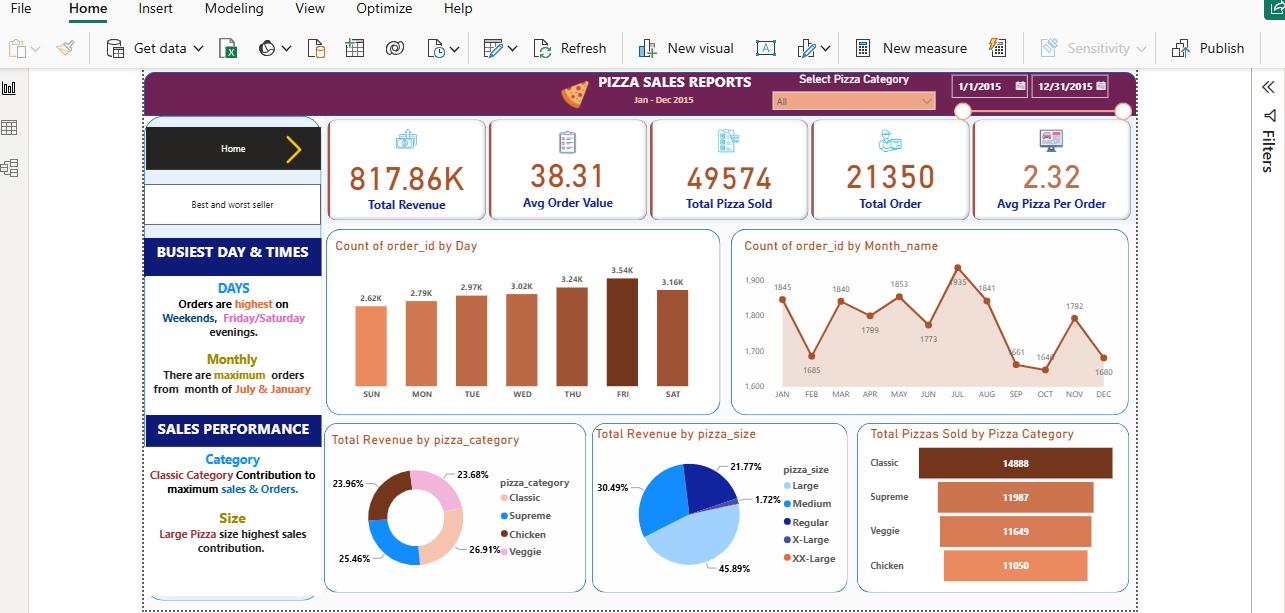

What the dashboard file says about the page in this screenshot:
{"tool":"powerbi","page":{"name":"Home","canvas":[1465,800],"ordinal":0},"visuals":[{"type":"shape","box":[0,71.5,261.8,715.4],"z":0},{"type":"shape","box":[0,6.5,1465,65],"z":1000},{"type":"cardVisual","fields":{"Data":["pizza_sales1.Total Revenue","pizza_sales1.Avg Order Value","pizza_sales1.Total Pizza Sold","pizza_sales1.Total Order","pizza_sales1.Avg Pizza Per Order"]},"box":[265,71.5,1200,159.3],"z":2000},{"type":"textbox","box":[695.9,32.5,144.7,39],"z":3000},{"type":"group","id":"g1","title":"Group 1","box":[582.5,276.4,252,2.6],"z":4000},{"type":"textbox","box":[626,0,315.4,40.7],"z":5000},{"type":"textbox","box":[582.5,276.4,252,2.6],"z":5500,"group":"g1"},{"type":"shape","box":[268.3,237.4,582.1,274.8],"z":6000},{"type":"image","box":[580.5,13,112.2,52],"z":7000},{"type":"shape","box":[866.7,237.4,587,274.8],"z":8000},{"type":"clusteredColumnChart","fields":{"Y":["Count(pizza_sales1.order_id)"],"Category":["pizza_sales1.Day"]},"box":[278,250.4,562.6,248.8],"z":9000},{"type":"areaChart","fields":{"Y":["Count(pizza_sales1.order_id)"],"Category":["pizza_sales1.Month_name"]},"box":[881.3,250.4,557.7,248.8],"z":10000},{"type":"shape","box":[265,523.6,387,250.4],"z":11000},{"type":"shape","box":[661.8,523.6,377.2,250.4],"z":12000},{"type":"donutChart","fields":{"Category":["pizza_sales1.pizza_category"],"Y":["pizza_sales1.Total Revenue"]},"box":[271.5,536.6,374,230.9],"z":13000},{"type":"pieChart","fields":{"Category":["pizza_sales1.pizza_size"],"Y":["pizza_sales1.Total Revenue"]},"box":[661.8,528.5,377.2,239],"z":14000},{"type":"shape","box":[1052,523.6,401.6,250.4],"z":15000},{"type":"funnel","title":"Total Pizzas Sold by Pizza Category ","fields":{"Category":["pizza_sales1.pizza_category"],"Y":["Sum(pizza_sales1.quantity)"]},"box":[1066.7,528.5,372.4,239],"z":16000},{"type":"textbox","box":[0,250.4,261.8,56.9],"z":17000},{"type":"textbox","box":[3.3,307.3,258.5,204.9],"z":18000},{"type":"textbox","box":[0,559.3,261.8,219.5],"z":19000},{"type":"textbox","box":[3.3,512.2,258.5,47.2],"z":20000},{"type":"slicer","title":"Select Pizza Category","fields":{"Values":["pizza_sales1.pizza_category"]},"box":[918.7,6.5,260.2,58.5],"z":21000},{"type":"slicer","title":"Select Pizza Category","fields":{"Values":["pizza_sales1.order_date"]},"box":[1178.9,0,286.2,87.8],"z":22000},{"type":"pageNavigator","box":[3.3,87.8,258.5,63.4],"z":22001},{"type":"pageNavigator","box":[0,170.7,261.8,60.2],"z":22002},{"type":"image","box":[165.9,94.3,112.2,52],"z":22003}]}

Visuals, with their boxes on the page's 1465x800 design canvas (x1, y1, x2, y2). These are canvas units, not pixel positions in the 1285x613 screenshot, which may show the page scaled, cropped or inside an application window:
shape: crop(0, 72, 262, 787)
shape: crop(0, 6, 1465, 72)
cardVisual - pizza_sales1.Total Revenue x pizza_sales1.Avg Order Value: crop(265, 72, 1465, 231)
textbox: crop(696, 32, 841, 72)
"Group 1" group: crop(582, 276, 834, 279)
textbox: crop(626, 0, 941, 41)
textbox: crop(582, 276, 834, 279)
shape: crop(268, 237, 850, 512)
image: crop(580, 13, 693, 65)
shape: crop(867, 237, 1454, 512)
clusteredColumnChart - Count(pizza_sales1.order_id) x pizza_sales1.Day: crop(278, 250, 841, 499)
areaChart - Count(pizza_sales1.order_id) x pizza_sales1.Month_name: crop(881, 250, 1439, 499)
shape: crop(265, 524, 652, 774)
shape: crop(662, 524, 1039, 774)
donutChart - pizza_sales1.pizza_category x pizza_sales1.Total Revenue: crop(272, 537, 646, 768)
pieChart - pizza_sales1.pizza_size x pizza_sales1.Total Revenue: crop(662, 528, 1039, 768)
shape: crop(1052, 524, 1454, 774)
"Total Pizzas Sold by Pizza Category " funnel: crop(1067, 528, 1439, 768)
textbox: crop(0, 250, 262, 307)
textbox: crop(3, 307, 262, 512)
textbox: crop(0, 559, 262, 779)
textbox: crop(3, 512, 262, 559)
"Select Pizza Category" slicer: crop(919, 6, 1179, 65)
"Select Pizza Category" slicer: crop(1179, 0, 1465, 88)
pageNavigator: crop(3, 88, 262, 151)
pageNavigator: crop(0, 171, 262, 231)
image: crop(166, 94, 278, 146)
